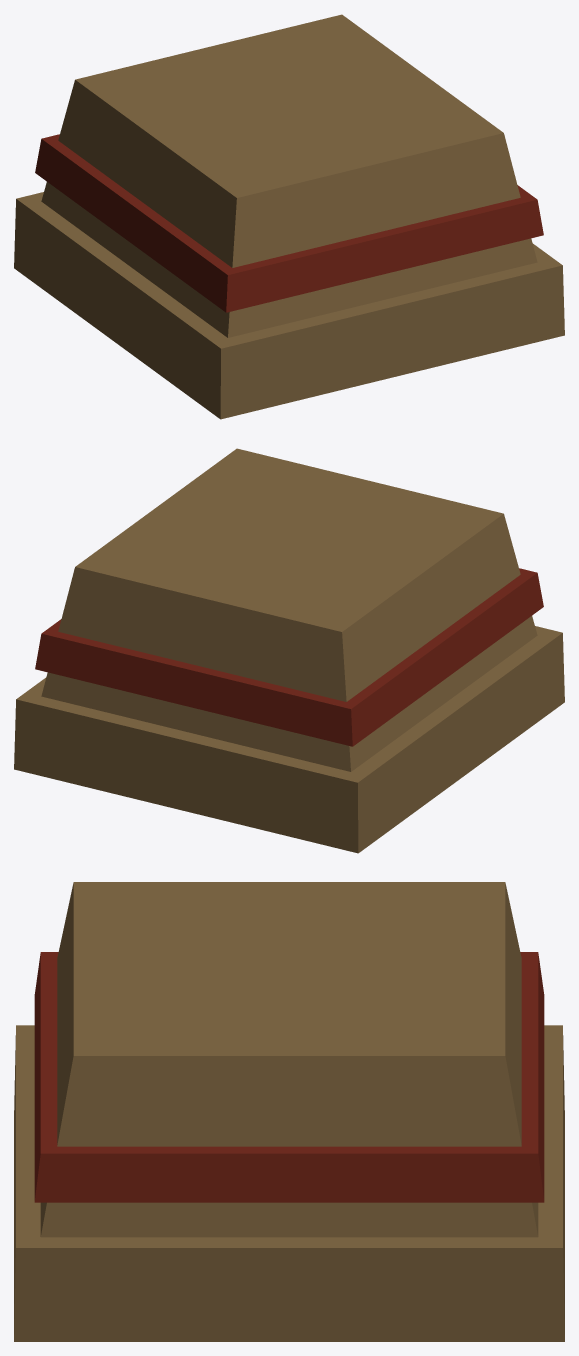
Rendered from gear_head_woodsman_beanie.glb.
3 views of the same model, one above another, from view 1: azimuth 30°, elevation 25°; view 2: azimuth 150°, elevation 25°; view 3: azimuth 270°, elevation 25° (orthographic). The views are drawn at different scales.
Visible parts, largest first — view 1: head; view 2: head; view 3: head.
Part boxes in pixels (left/top/right/bottom): head: left=14, top=14, right=564, bottom=419; head: left=14, top=448, right=564, bottom=853; head: left=14, top=882, right=564, bottom=1341.
Bounding box in the file's own units: 0.258 × 0.14 × 0.268.
